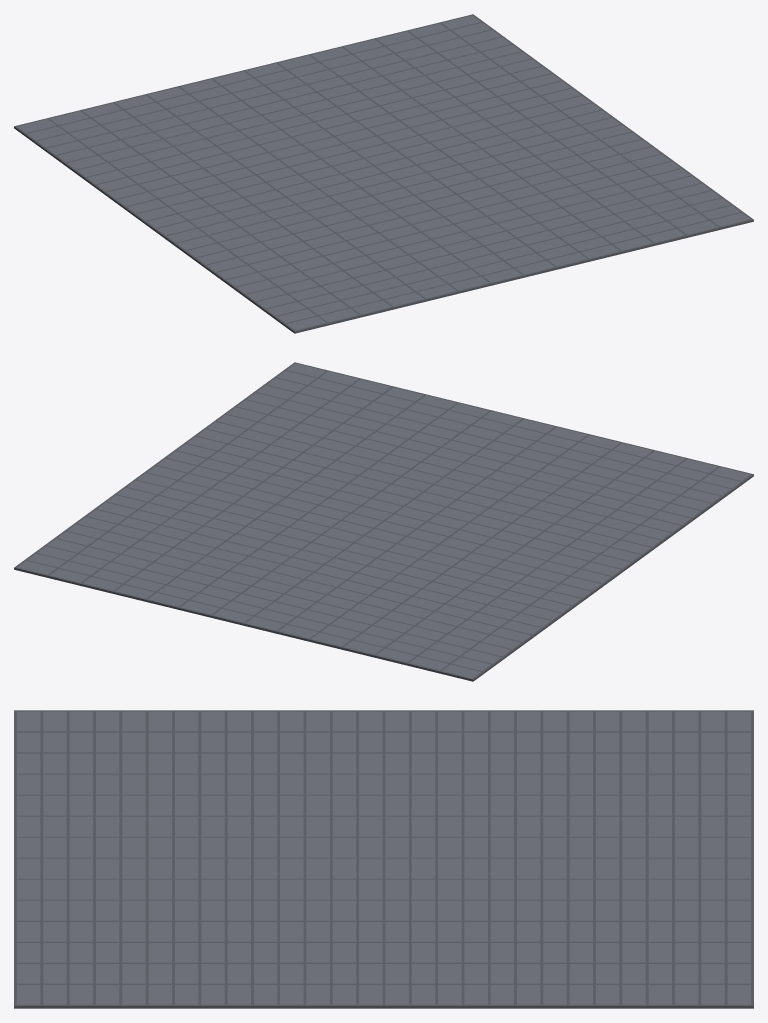
File: floor.obj
The picture shows the model from 3 angles, top to bottom: view 1: azimuth 30°, elevation 25°; view 2: azimuth 150°, elevation 25°; view 3: azimuth 270°, elevation 25°; orthographic projection. The views are drawn at different scales.
Bounding box in the file's own units: 23.9 × 0.1 × 25.3.
1 material, 1 textured.
